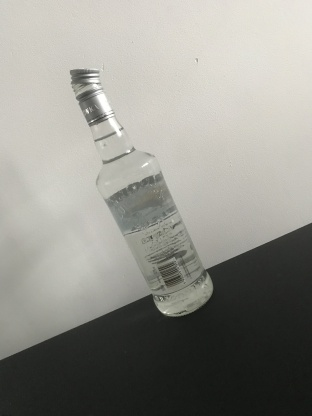nakretka: (68, 65, 116, 128)
